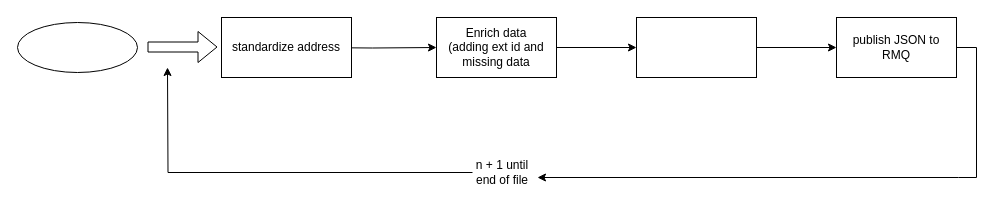
Some shapes in this 1002 by 205 pixel diagram are drawn without their labels. The shapes that lost their labels are listed below. From the top down, each one's centre as x and y in pixels, then its label:
the point at 77,47: for 1 to n n being rows of info within roster file
the point at 696,47: generate json for NPI
